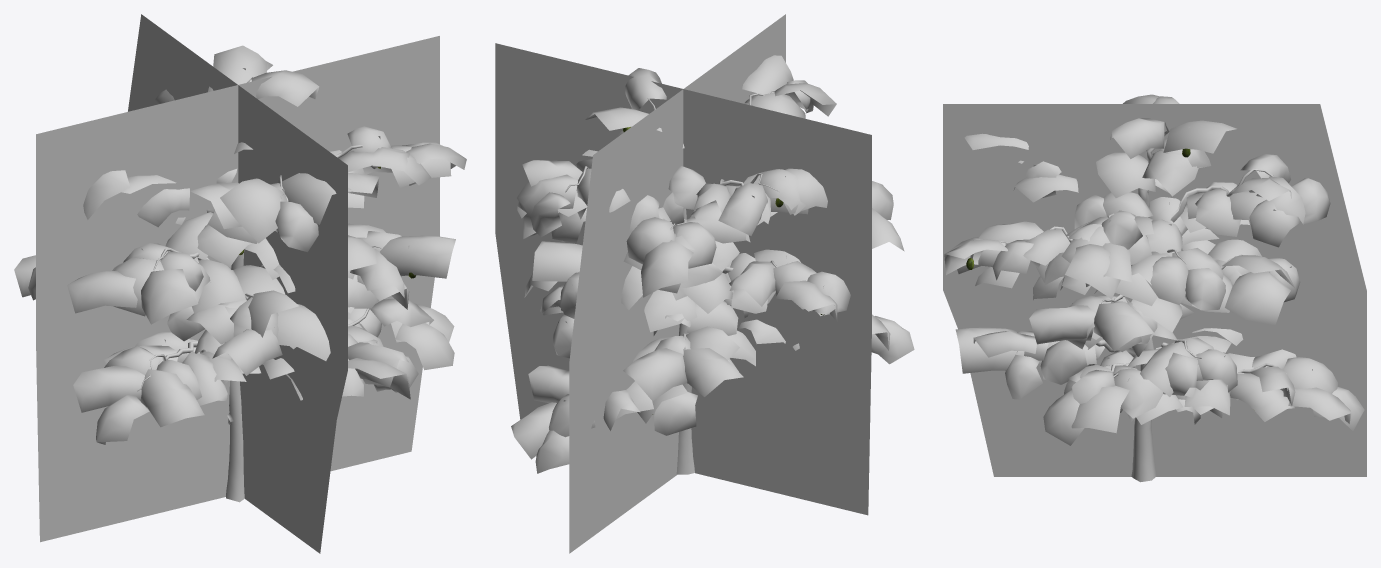
File: Mango3.fbx
The picture shows the model from 3 angles, left to right: view 1: azimuth 30°, elevation 25°; view 2: azimuth 150°, elevation 25°; view 3: azimuth 270°, elevation 25°; orthographic projection. The views are drawn at different scales.
Visible parts, largest first — view 1: Billboard, LOD0; view 2: Billboard, LOD0; view 3: LOD0, Billboard.
Boxes of the visible parts, box(x1,y1,x2,y2) form: Billboard: box(36, 14, 439, 553); LOD0: box(14, 45, 466, 502); Billboard: box(495, 14, 871, 553); LOD0: box(511, 55, 914, 474); LOD0: box(944, 94, 1364, 482); Billboard: box(943, 104, 1366, 476).
Size of what is drawn, in the model's own units: 617 by 602 by 615.
